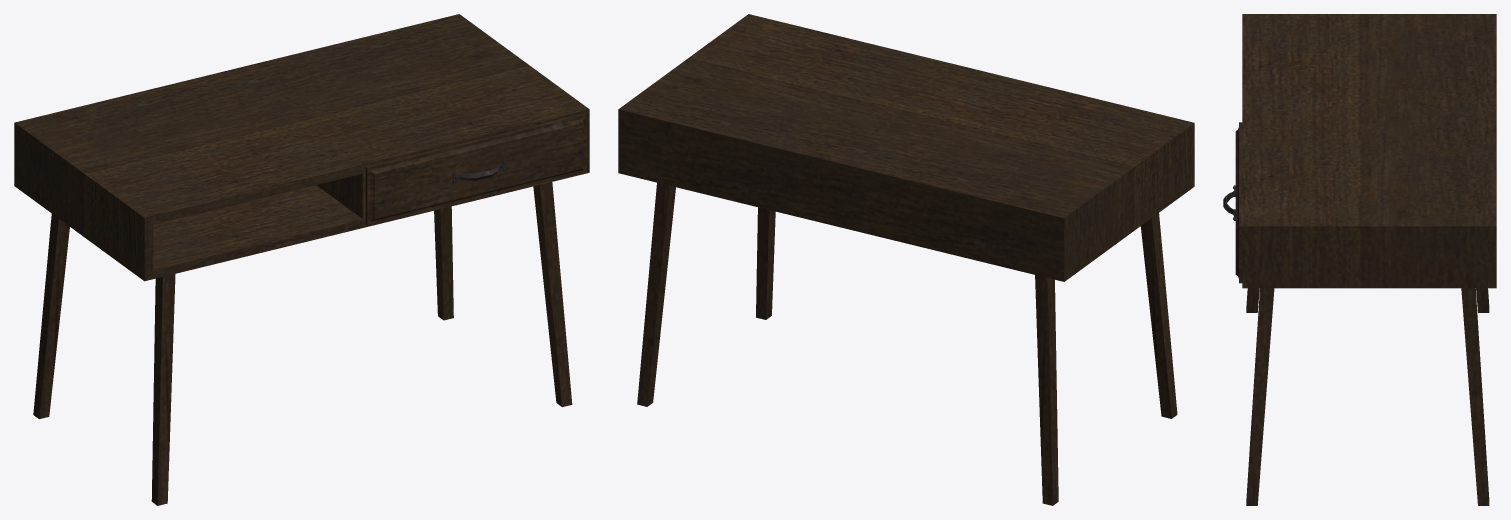
The model's file is tv_table_4_1.obj.
3 views of the same model, side by side, from view 1: azimuth 30°, elevation 25°; view 2: azimuth 150°, elevation 25°; view 3: azimuth 270°, elevation 25° (orthographic). The views are drawn at different scales.
Visible parts, largest first — view 1: tv_table_4_1, tv_table_4_1_drawer; view 2: tv_table_4_1; view 3: tv_table_4_1, tv_table_4_1_drawer.
Boxes of the visible parts, box(x1,y1,x2,y2) form: tv_table_4_1: box(14, 14, 589, 505); tv_table_4_1_drawer: box(365, 113, 586, 225); tv_table_4_1: box(618, 14, 1194, 505); tv_table_4_1: box(1242, 14, 1496, 505); tv_table_4_1_drawer: box(1223, 122, 1242, 283).
Size of the model in its own units: 1.54 by 0.97 by 0.8383.
